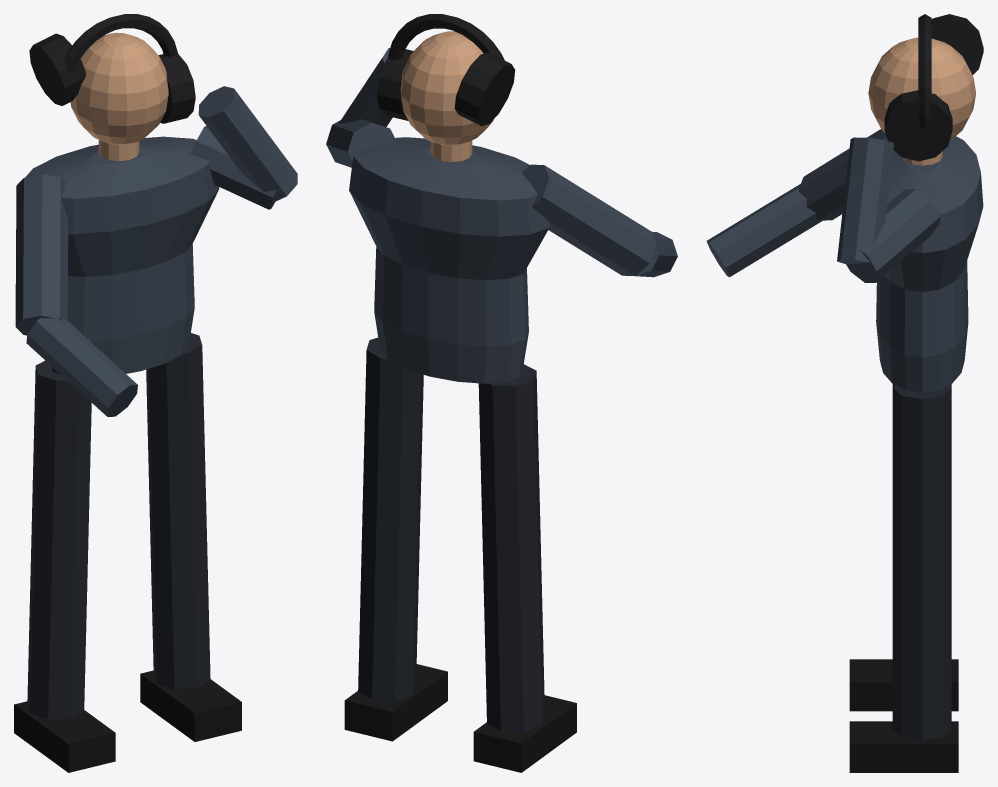
File: figure-deejay.glb
3 views of the same model, side by side, from view 1: azimuth 30°, elevation 25°; view 2: azimuth 150°, elevation 25°; view 3: azimuth 270°, elevation 25° (orthographic). The views are drawn at different scales.
Parts seen in each view (by area): view 1: figure-legs, figure-torso, figure-sleeves, figure-skin, figure-shoes, dj-cans; view 2: figure-legs, figure-torso, figure-sleeves, figure-shoes, figure-skin, dj-cans; view 3: figure-legs, figure-torso, figure-sleeves, figure-shoes, dj-cans, figure-skin.
Boxes of the visible parts, <box> form: figure-legs: <box>27,333,210,719</box>; figure-torso: <box>25,136,219,374</box>; figure-sleeves: <box>15,86,297,416</box>; figure-skin: <box>70,32,168,161</box>; figure-shoes: <box>14,670,241,772</box>; dj-cans: <box>29,14,195,123</box>; figure-legs: <box>358,337,544,731</box>; figure-torso: <box>349,137,550,383</box>; figure-sleeves: <box>326,48,677,277</box>; figure-shoes: <box>344,664,576,772</box>; figure-skin: <box>400,31,493,162</box>; dj-cans: <box>377,14,515,126</box>; figure-legs: <box>892,384,951,740</box>; figure-torso: <box>876,136,983,392</box>; figure-sleeves: <box>706,129,940,282</box>; figure-shoes: <box>849,659,958,772</box>; dj-cans: <box>884,14,983,161</box>; figure-skin: <box>868,37,975,165</box>.
Bounding box in the file's own units: 0.751 × 1.73 × 0.6107.
